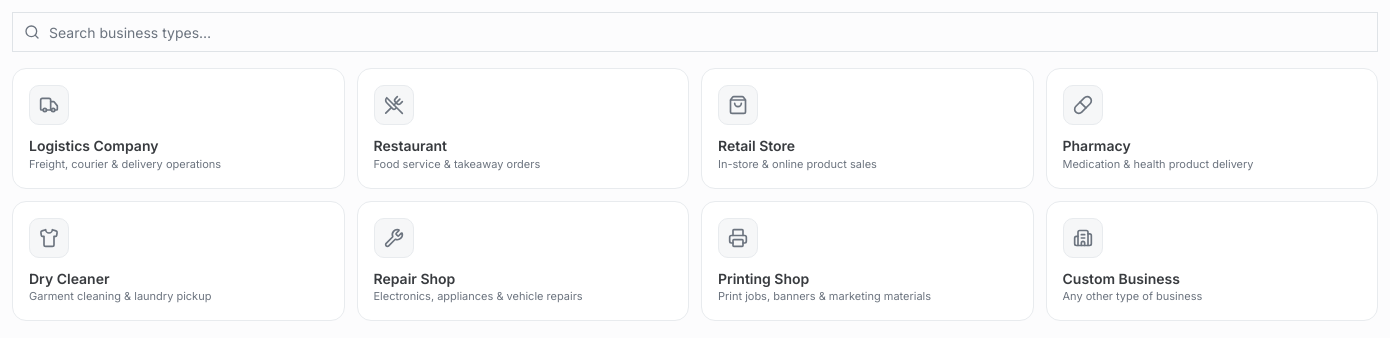
Test: BusinessTypeSelector › filters cards when search query matches a label
This screenshot has width=1390, height=338.
Type "restau" into the field labelled "Search business types" at [695, 32], box [12,12,1378,52]
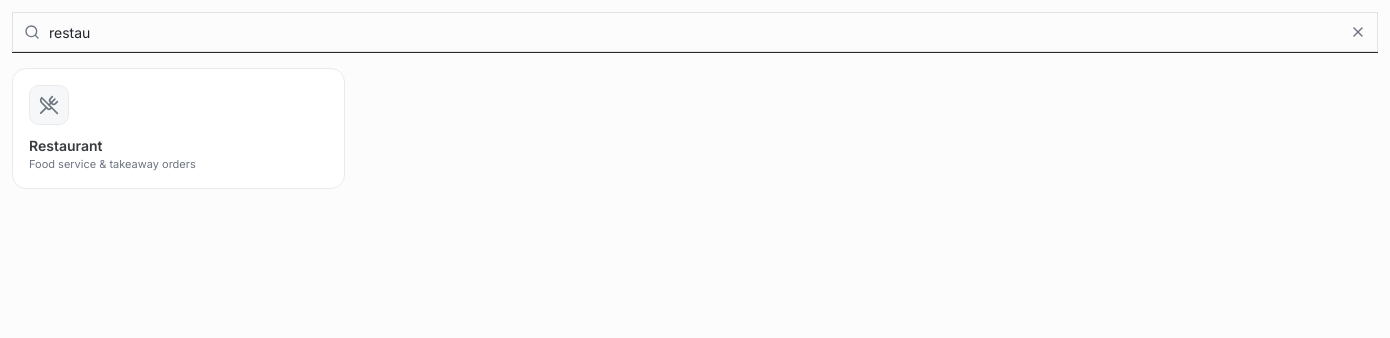
Expected: the text "Restaurant" is shown, [29,137,102,154]
Result: the option "Pharmacy" is gone
